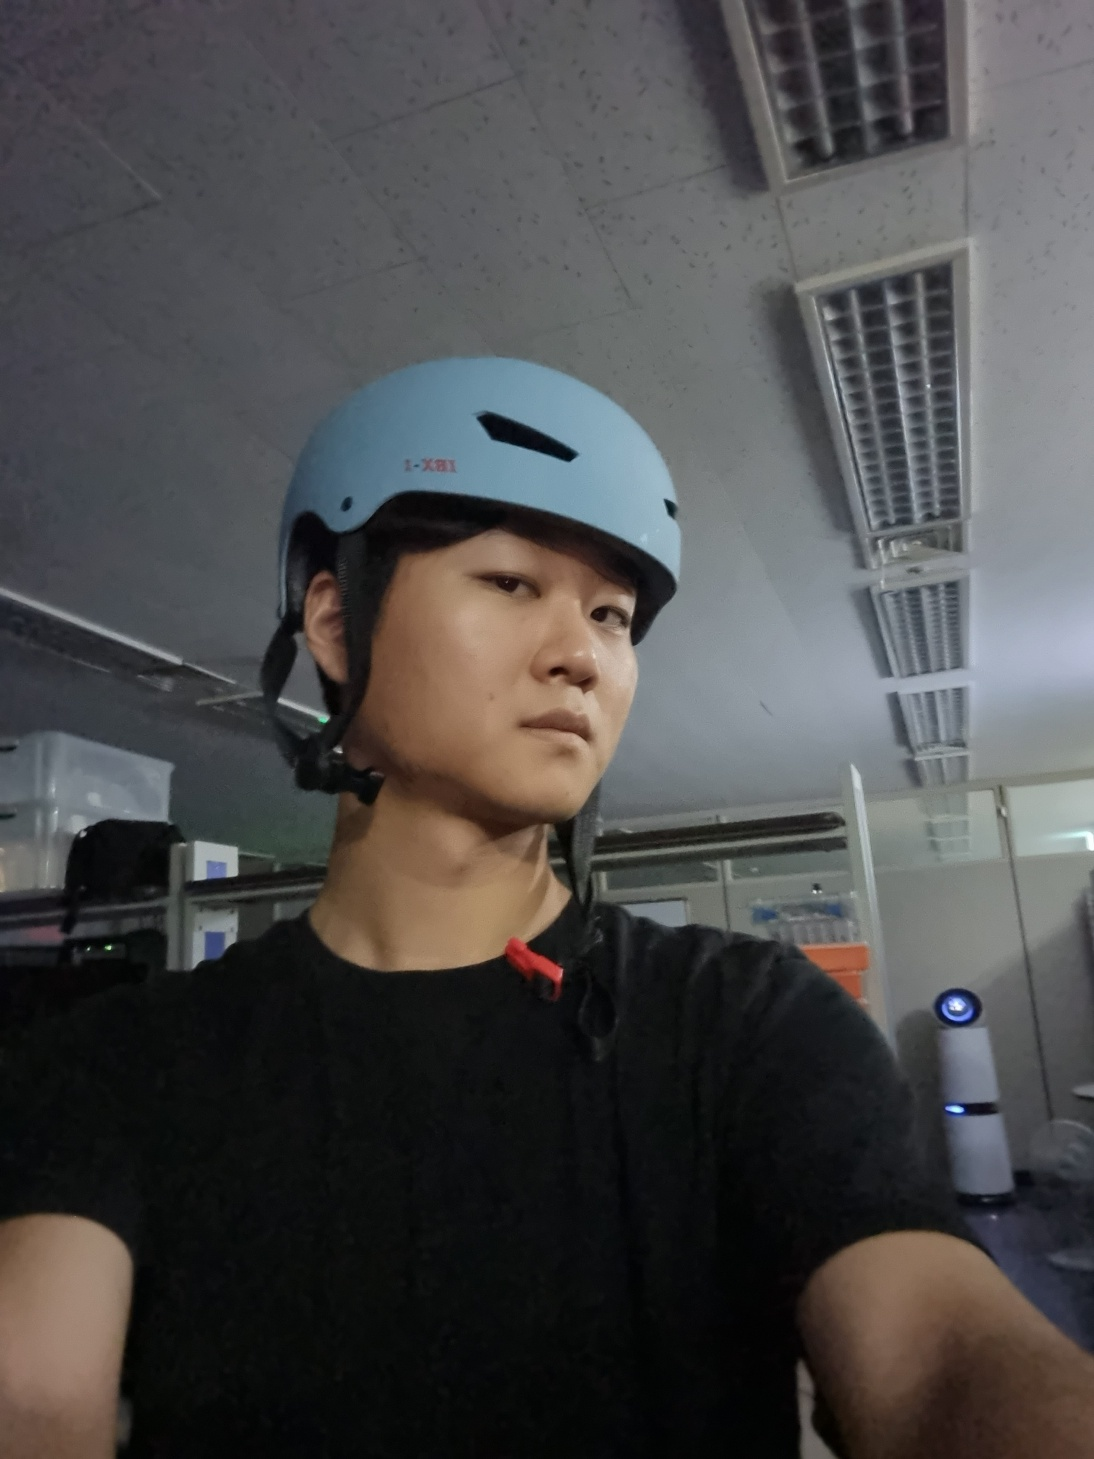Helmet: (219, 303, 744, 896)
